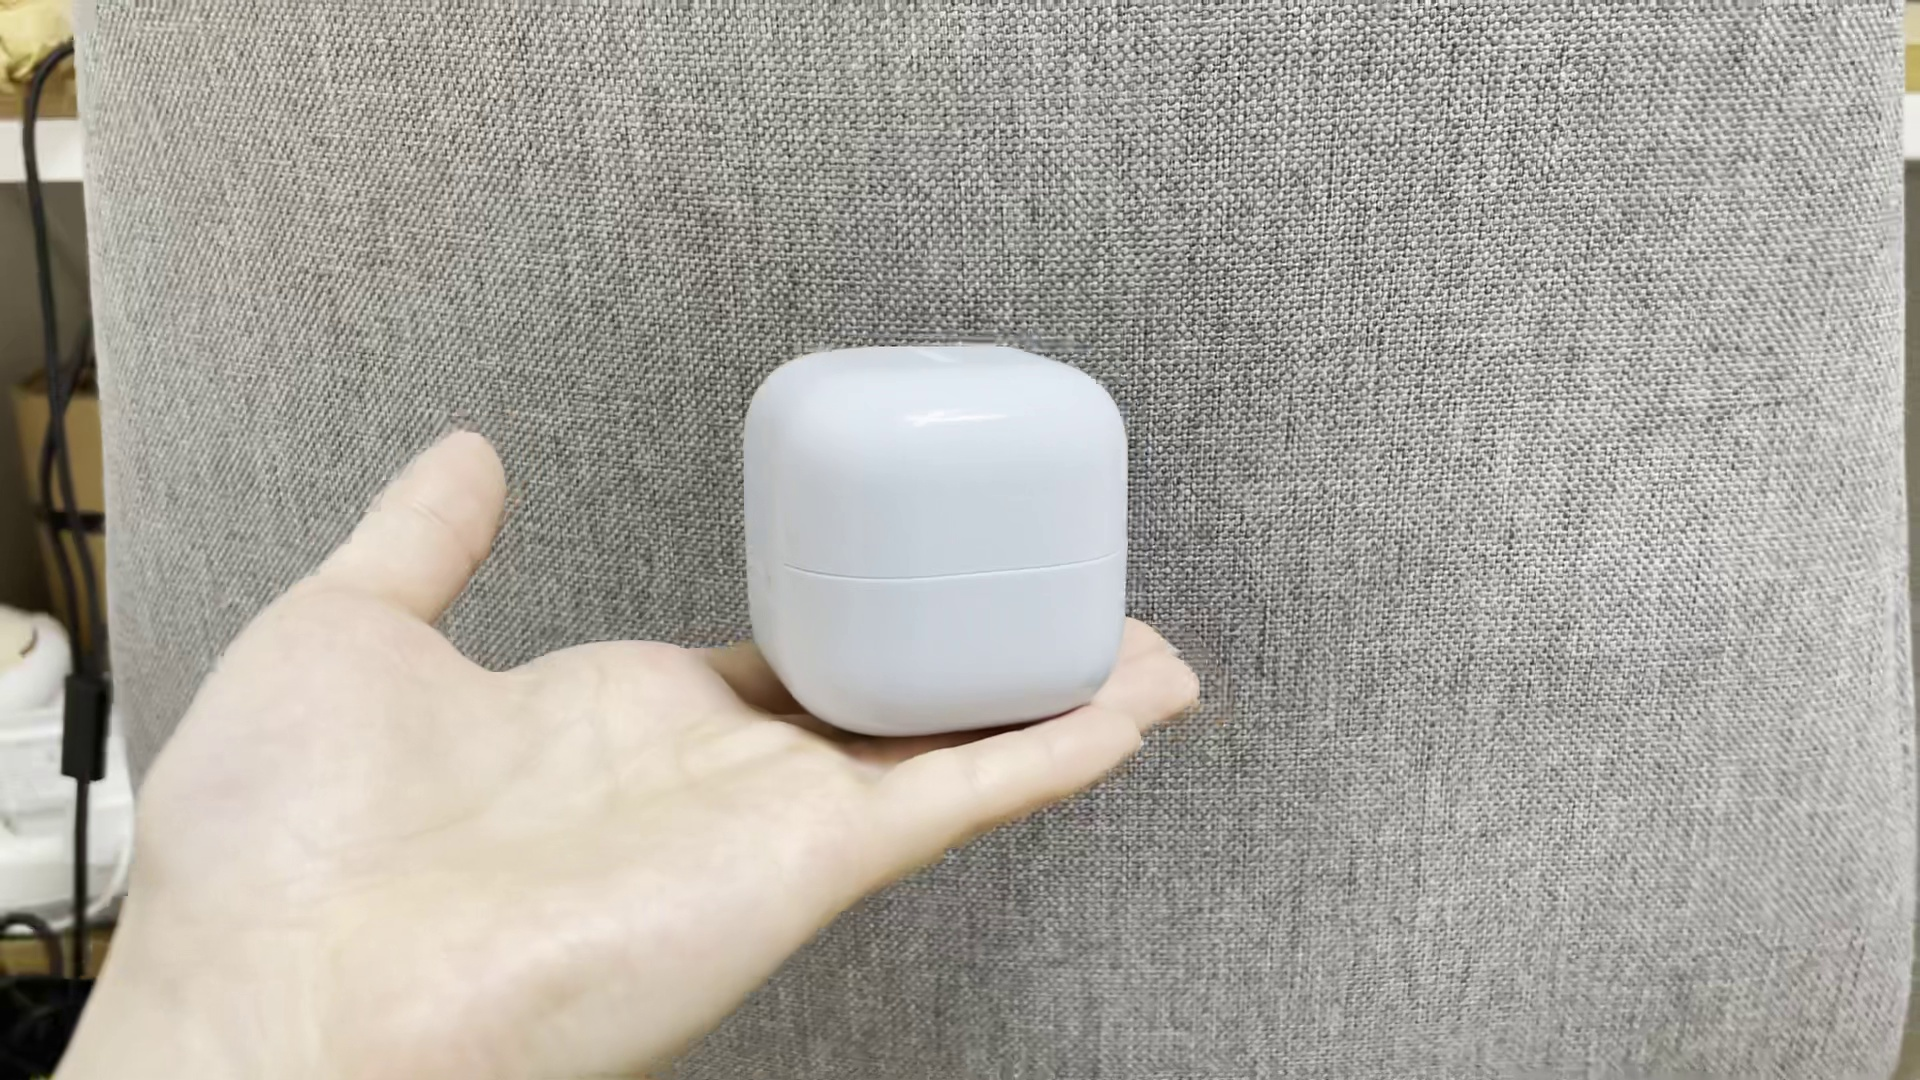cream: (742, 345, 1126, 727)
